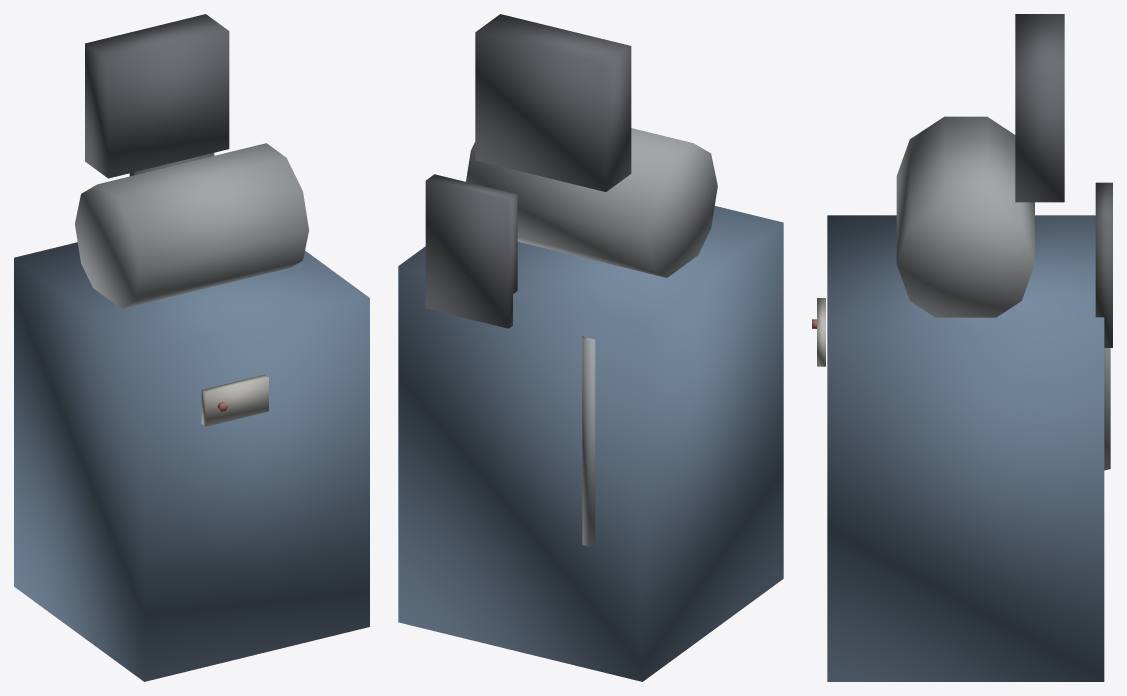
Rendered from wheel_balancer__service.glb.
The picture shows the model from 3 angles, left to right: view 1: azimuth 30°, elevation 25°; view 2: azimuth 150°, elevation 25°; view 3: azimuth 270°, elevation 25°; orthographic projection. The views are drawn at different scales.
Visible parts, largest first — view 1: world; view 2: world; view 3: world.
Part boxes in pixels (bbox=[...]): world: bbox=[14, 14, 369, 681]; world: bbox=[398, 14, 783, 681]; world: bbox=[812, 14, 1112, 681].
Size of the model in its own units: 0.56 by 1.29 by 0.6085.
